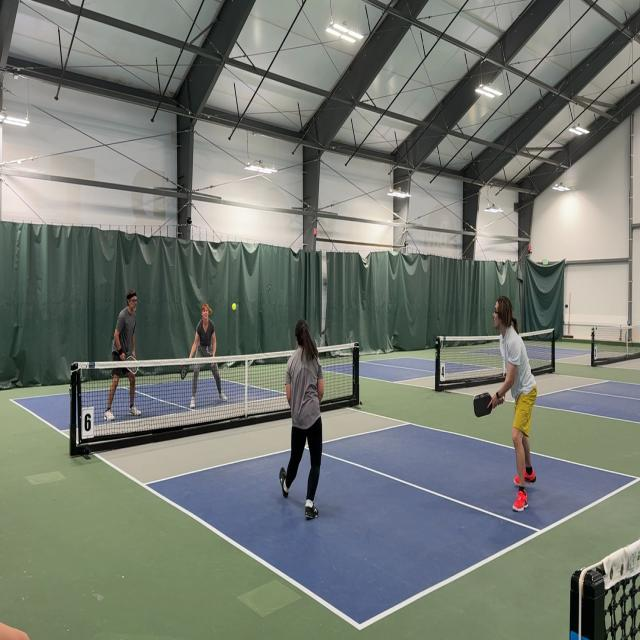ball: (231, 302, 237, 312)
